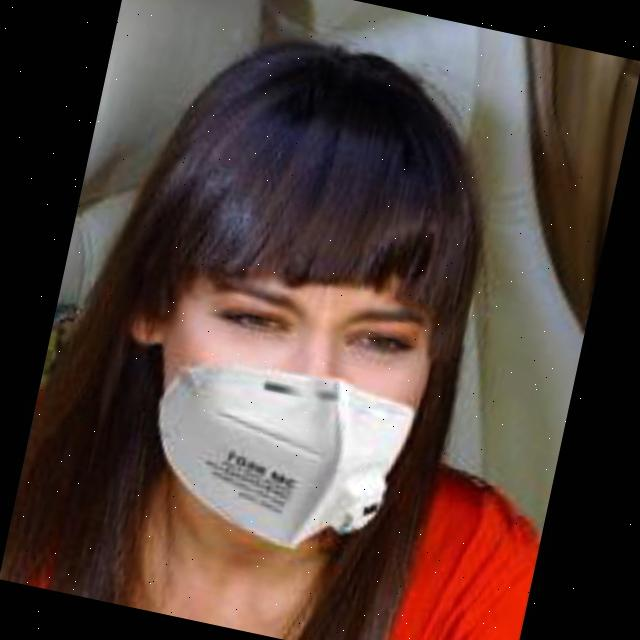suspicion: (94, 126, 478, 566)
